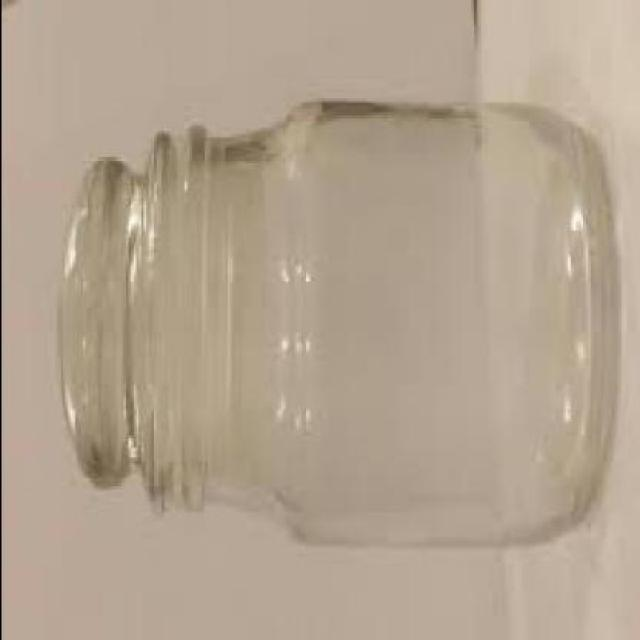GLASS: (55, 101, 617, 554)
